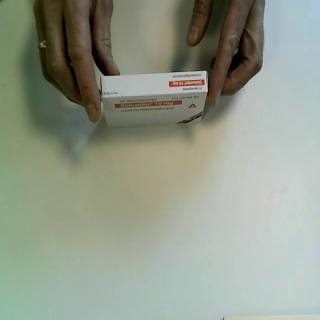dolcontin10mg: (99, 69, 210, 129)
